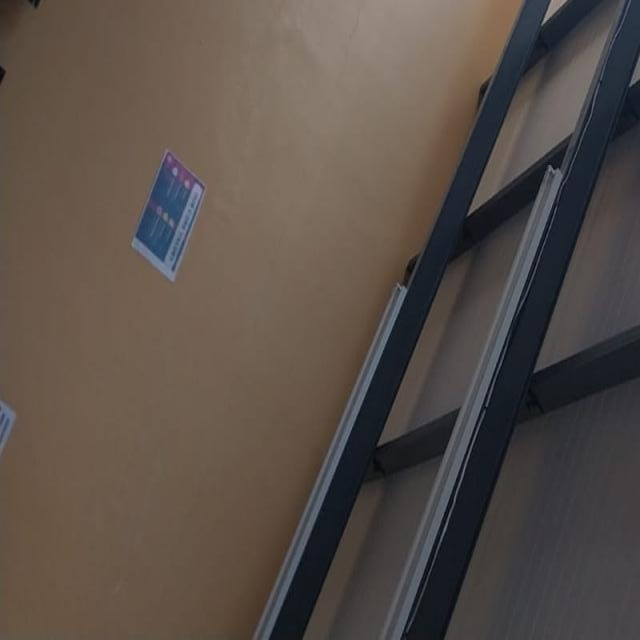fluorescent tube: (376, 135, 580, 640), (232, 231, 420, 640), (491, 0, 639, 28)
